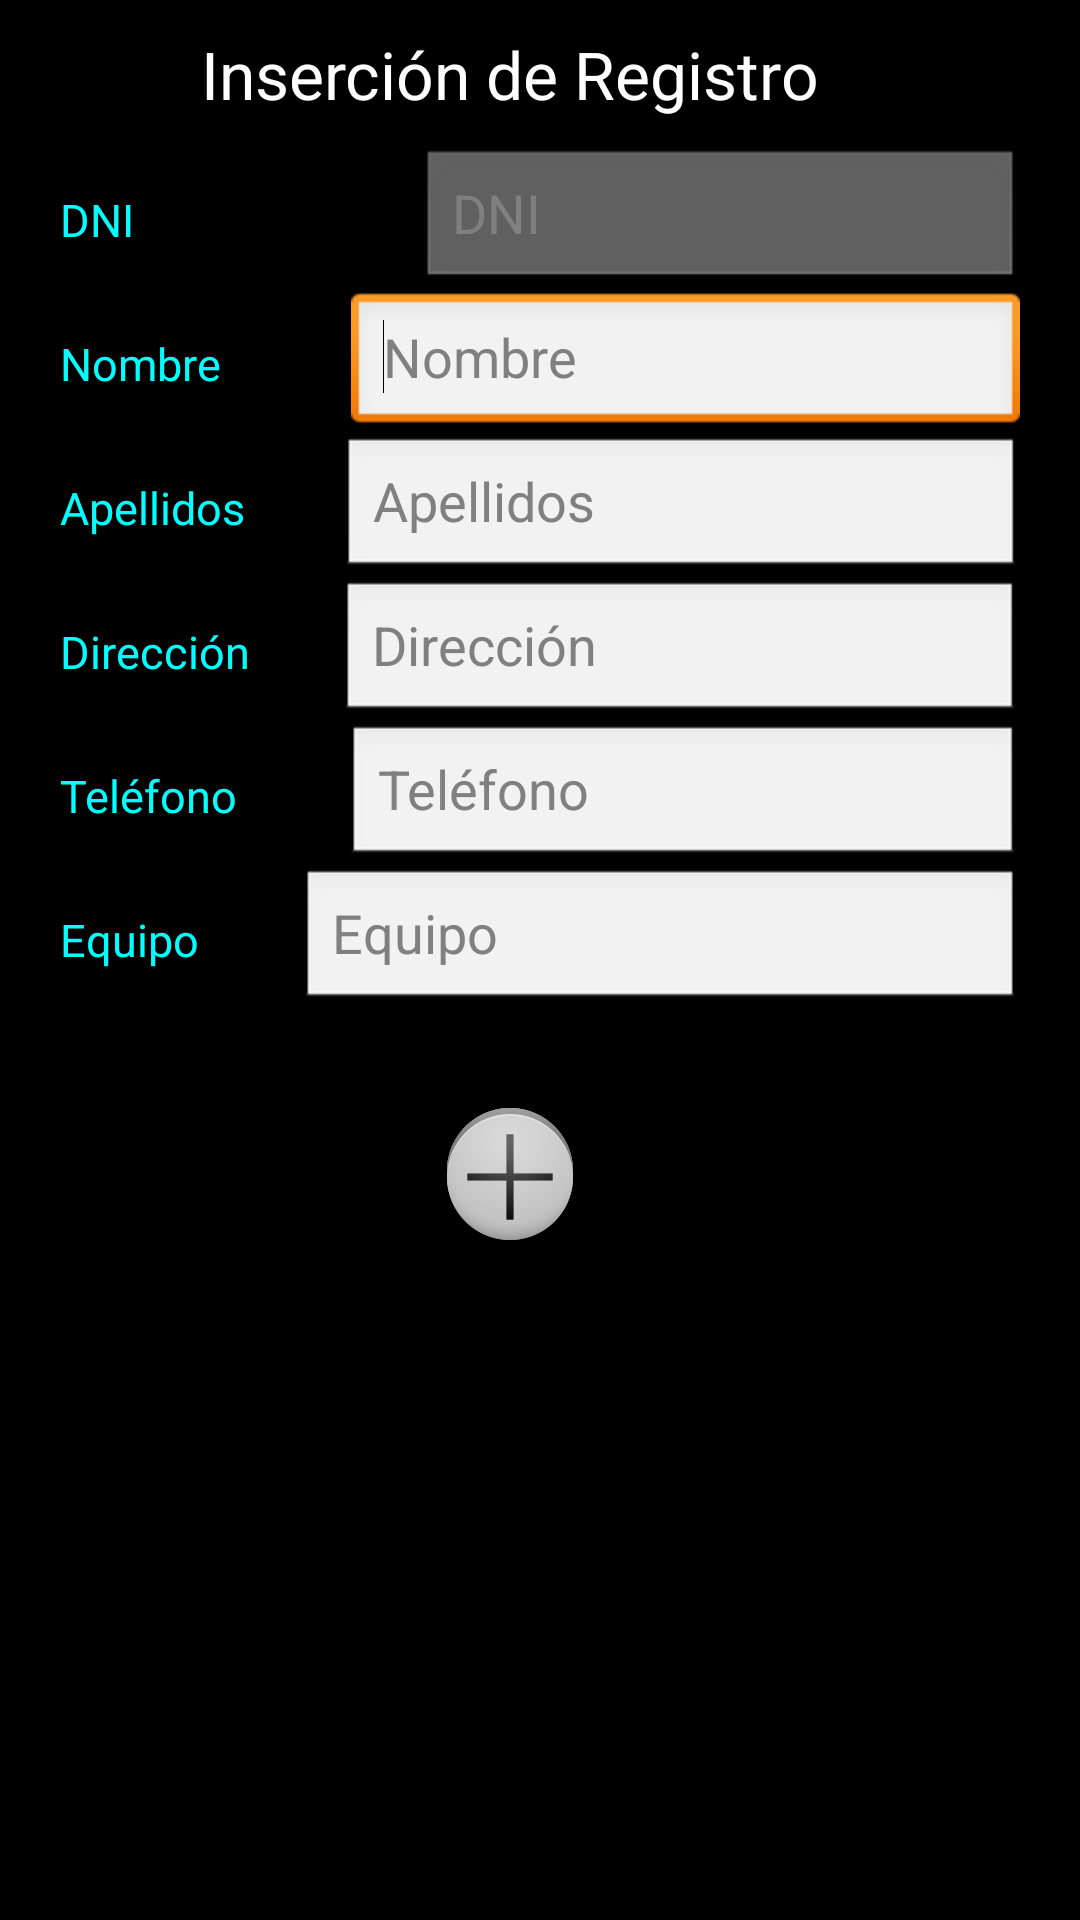

Icons on this 1080px×1920px Android screen, each with the point to tap as point (x, y):
Botón de inserción: point (510, 1174)
